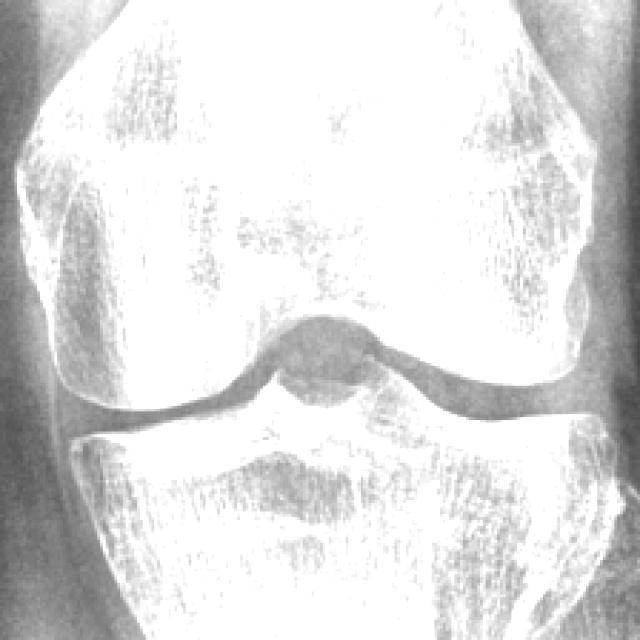femur: (20, 1, 591, 412)
tibia: (74, 374, 617, 640)
